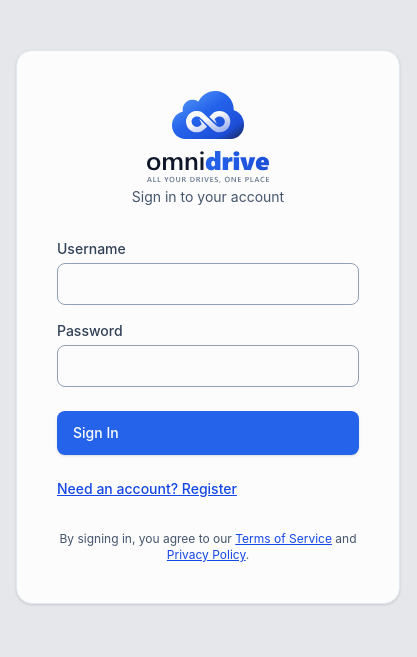
Scenario: LoginPage › shows error message in an alert when login fails
The width and height of the screenshot is (417, 657).
Type "alice" into the field labelled "Username" at (208, 284), box [57,263,359,305]
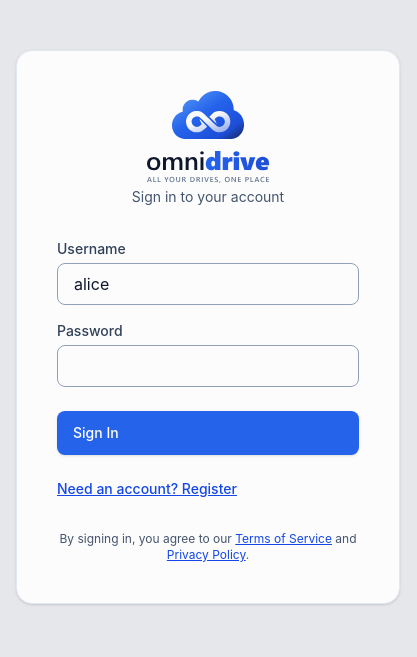
Type "wrong" into the password field labelled "Password" at (208, 366), box [57,345,359,387]
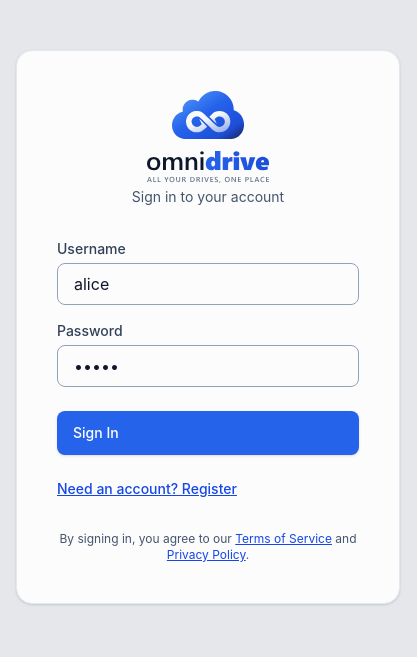
Click the button "Sign In" at (96, 432), box [57,411,359,455]
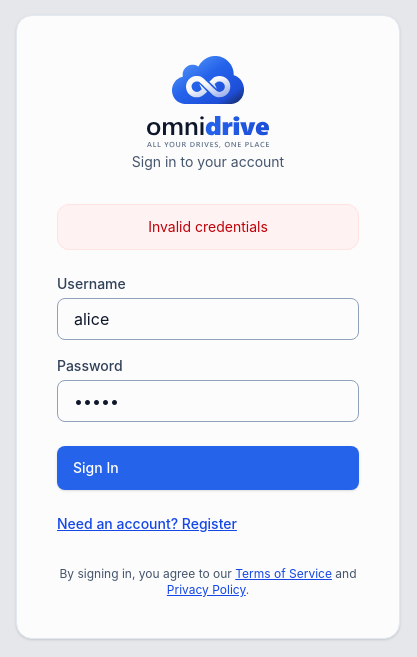
Check: the message "Invalid credentials" is shown, box [57,204,359,250]
